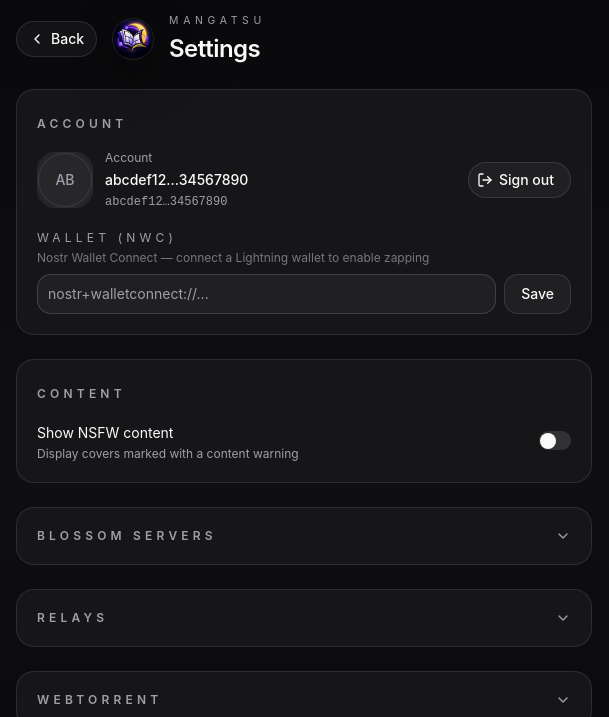
SettingsScreen › rejects an invalid wallet connection string
Type "https://not-a-wallet.example" into the password field with test id "nwc-input" at coordinates (267, 294), box [37,274,496,314]
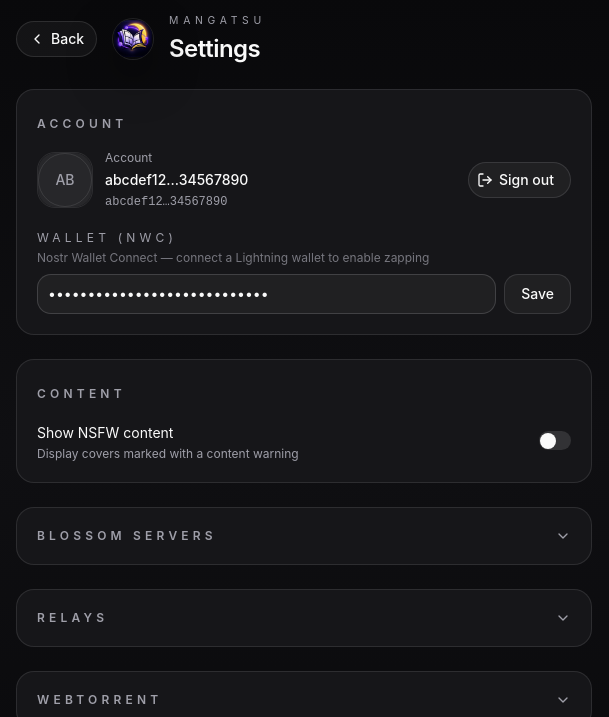
Click the button "Save" at coordinates (538, 294), box [504,274,571,314]
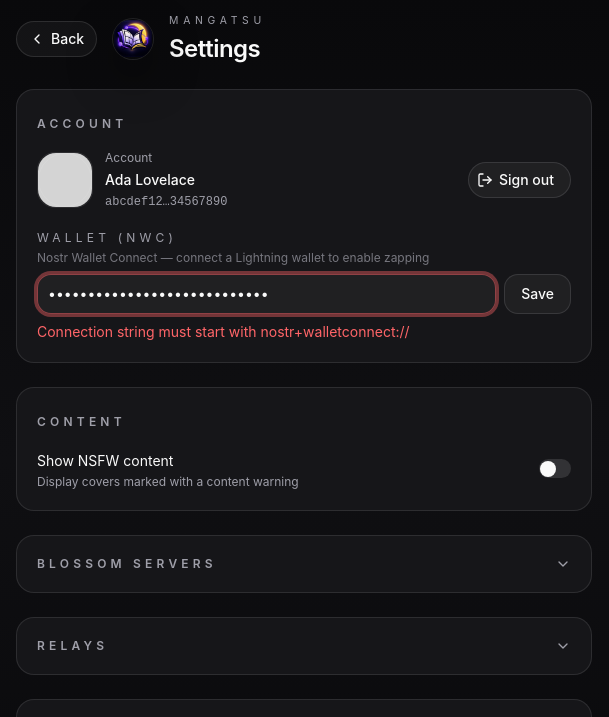
Check: the message shows "nostr+walletconnect", box [37,323,410,340]
